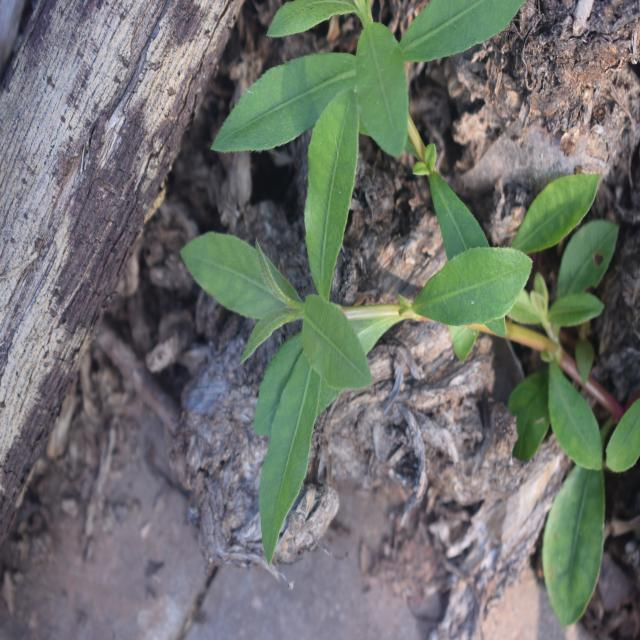Alligatorweed: (203, 99, 520, 531), (209, 1, 513, 213)
